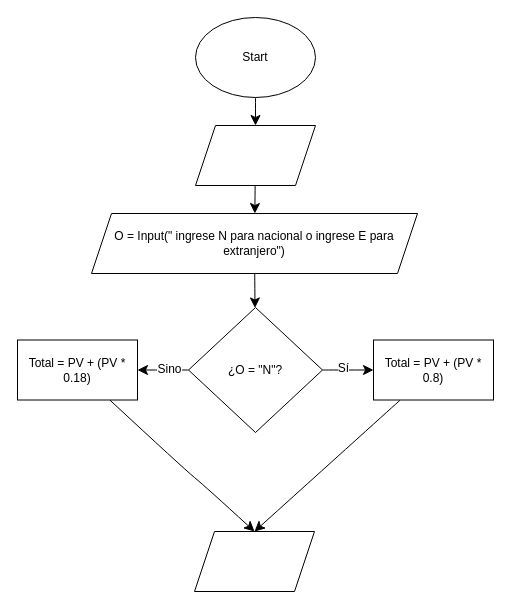
Some shapes in this 511 by 609 pixel diagram are drawn without their labels. Here are the shapes that lost their labels. From the top down, the box of each, then its label:
(194, 124, 316, 186): Input PV
(194, 530, 314, 592): Print = Total
